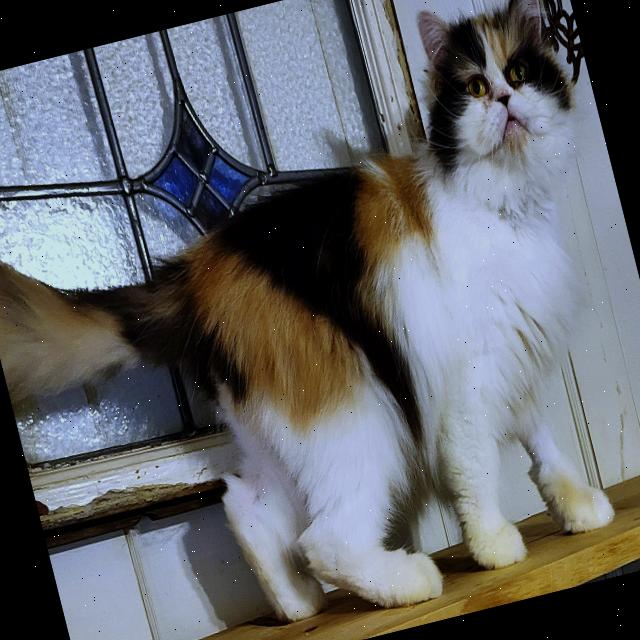persian_cat: (386, 0, 606, 238)
